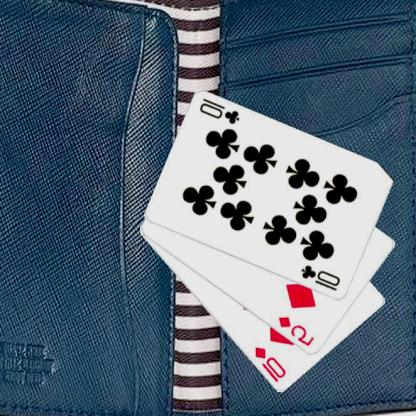10C: (300, 263, 344, 293), (199, 96, 243, 126)
10D: (253, 344, 289, 384)
5D: (277, 314, 317, 348)
